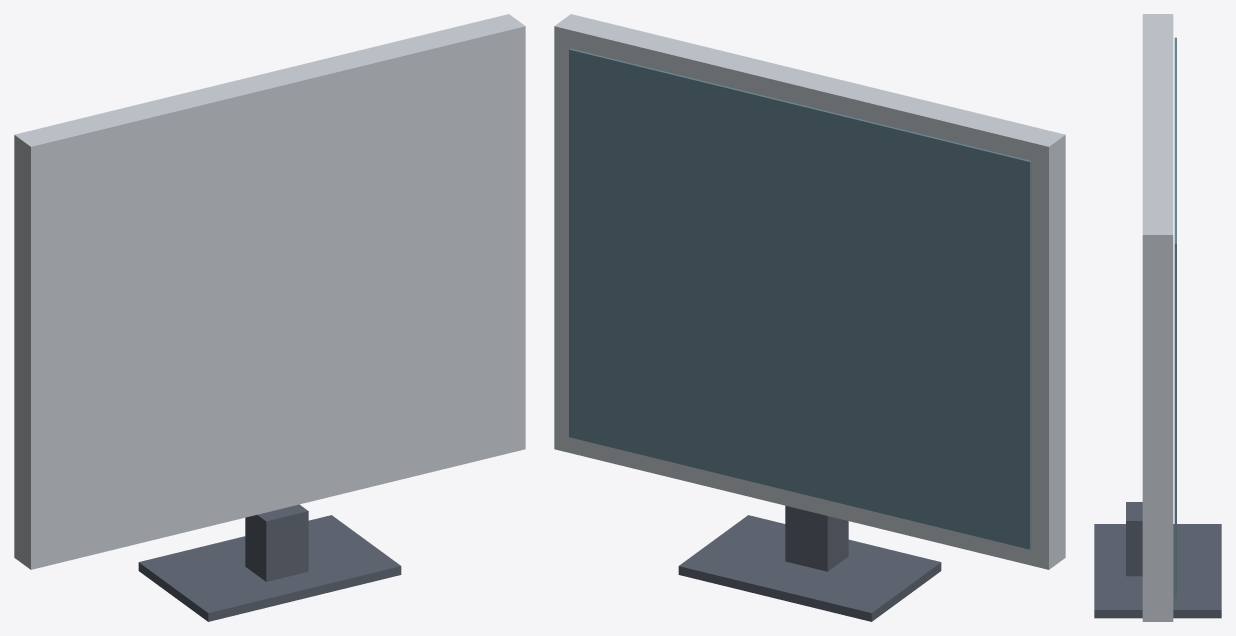
Rendered from chip4-upper-display.glb.
The picture shows the model from 3 angles, left to right: view 1: azimuth 30°, elevation 25°; view 2: azimuth 150°, elevation 25°; view 3: azimuth 270°, elevation 25°; orthographic projection. The views are drawn at different scales.
Parts seen in each view (by area): view 1: silver display frame, black stand foot, black stand neck; view 2: screen panel, silver display frame, black stand foot, black stand neck; view 3: silver display frame, black stand foot, screen panel, black stand neck.
Boxes of the visible parts, bbox=[...] form: silver display frame: bbox=[14, 14, 525, 569]; black stand foot: bbox=[138, 515, 401, 621]; black stand neck: bbox=[245, 504, 308, 581]; screen panel: bbox=[569, 48, 1031, 549]; silver display frame: bbox=[554, 14, 1065, 569]; black stand foot: bbox=[678, 515, 941, 621]; black stand neck: bbox=[785, 505, 848, 571]; silver display frame: bbox=[1142, 14, 1173, 621]; black stand foot: bbox=[1094, 524, 1221, 618]; screen panel: bbox=[1174, 37, 1176, 598]; black stand neck: bbox=[1126, 502, 1142, 576].
Bounding box in the file's own units: 0.41 × 0.39 × 0.1.
